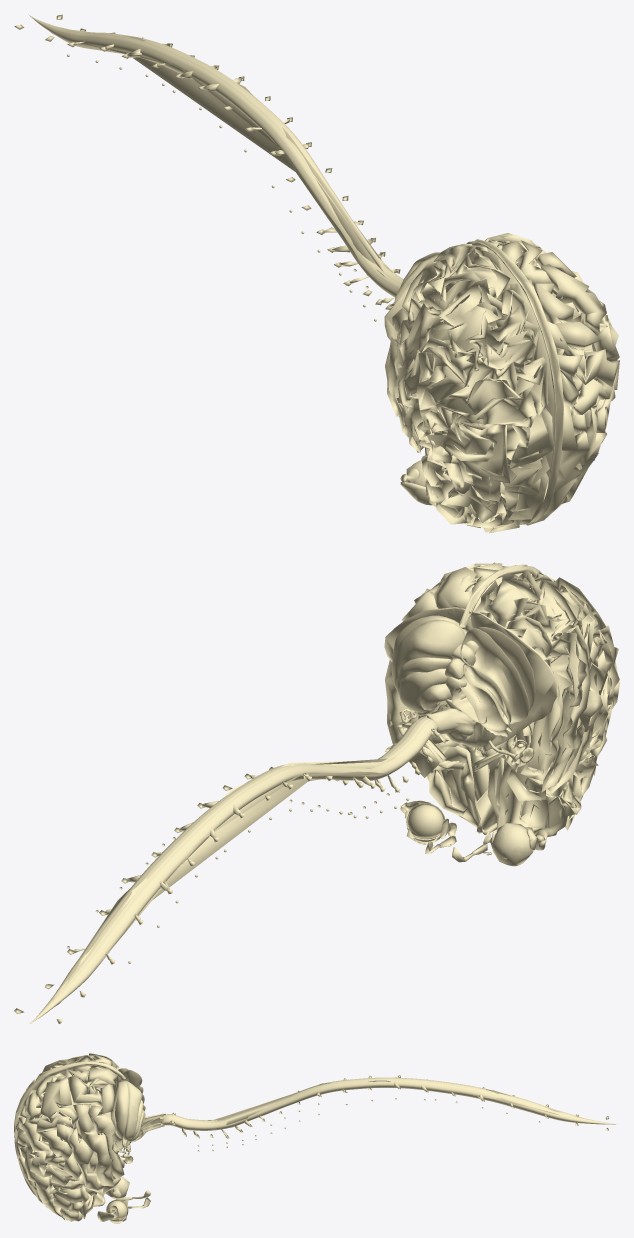
Rendered from overview__nervous.2f9ad8b9f4.glb.
The picture shows the model from 3 angles, top to bottom: view 1: azimuth 30°, elevation 25°; view 2: azimuth 150°, elevation 25°; view 3: azimuth 270°, elevation 25°; orthographic projection. The views are drawn at different scales.
Parts seen in each view (by area): view 1: Z02113, Z02632, Z02630, Z00648, Z02279, Z01413, Z01808, Z00095, Z01748, Z02303, Z02335, Z02278 (+16 smaller); view 2: Z02113, Z02630, Z02632, Z00922, Z01438, Z00914, Z02407, Z00913, Z01590, Z01591, Z00648, Z01554 (+20 smaller); view 3: Z02113, Z01437, Z00094, Z00648, Z00921, Z02334, Z01412, Z02631, Z02315, Z01807, Z02630, Z01747 (+13 smaller).
Part boxes in pixels (x1,y1,x2,y2): Z02113: [29, 15, 403, 306]; Z02632: [390, 245, 547, 528]; Z02630: [29, 15, 381, 276]; Z00648: [466, 239, 563, 525]; Z02279: [489, 408, 553, 533]; Z01413: [436, 424, 509, 528]; Z01808: [427, 392, 536, 463]; Z00095: [425, 279, 502, 362]; Z01748: [424, 378, 533, 433]; Z02303: [484, 290, 535, 369]; Z02335: [416, 337, 475, 412]; Z02278: [526, 404, 589, 525]; Z02113: [30, 716, 438, 1023]; Z02630: [52, 761, 390, 1006]; Z02632: [484, 577, 614, 835]; Z00922: [520, 636, 572, 781]; Z01438: [541, 625, 590, 792]; Z00914: [460, 628, 529, 723]; Z02407: [469, 611, 557, 752]; Z00913: [391, 620, 465, 689]; Z01590: [426, 745, 480, 825]; Z01591: [500, 759, 575, 835]; Z00648: [459, 564, 541, 834]; Z01554: [474, 580, 540, 627]; Z02113: [160, 1076, 617, 1138]; Z01437: [73, 1104, 114, 1186]; Z00094: [39, 1076, 78, 1130]; Z00648: [14, 1061, 125, 1206]; Z00921: [88, 1105, 124, 1179]; Z02334: [36, 1115, 73, 1159]; Z01412: [24, 1147, 78, 1221]; Z02631: [18, 1067, 115, 1214]; Z02315: [69, 1128, 104, 1192]; Z01807: [17, 1128, 69, 1185]; Z02630: [211, 1080, 618, 1129]; Z01747: [19, 1117, 65, 1169].
Bounding box in the file's own units: 134 × 174 × 625.
